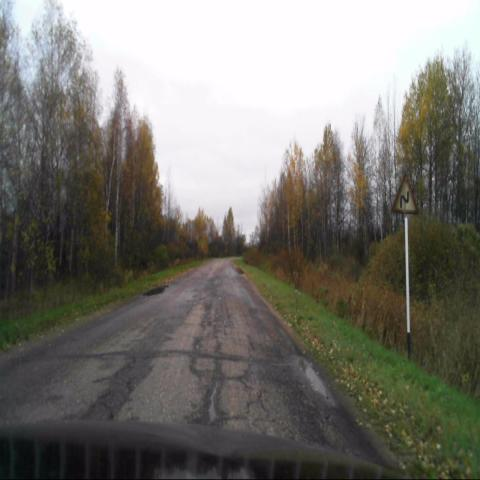1_12: (392, 172, 417, 214)
